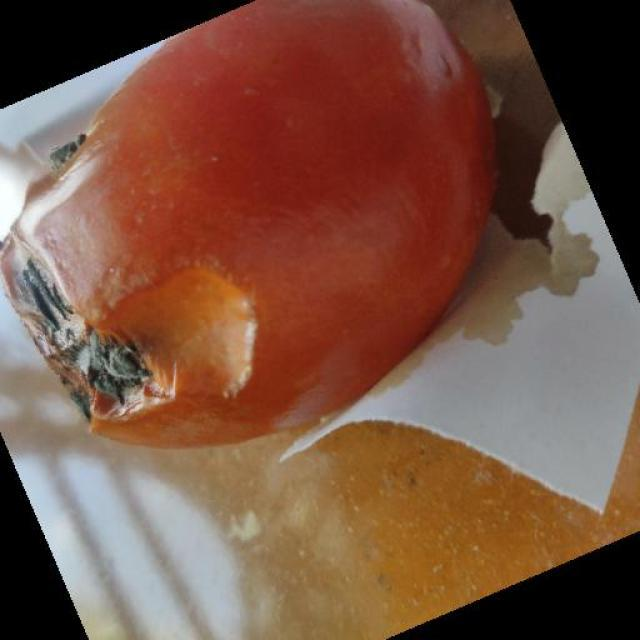Rotten Tomato: (2, 0, 572, 501)
